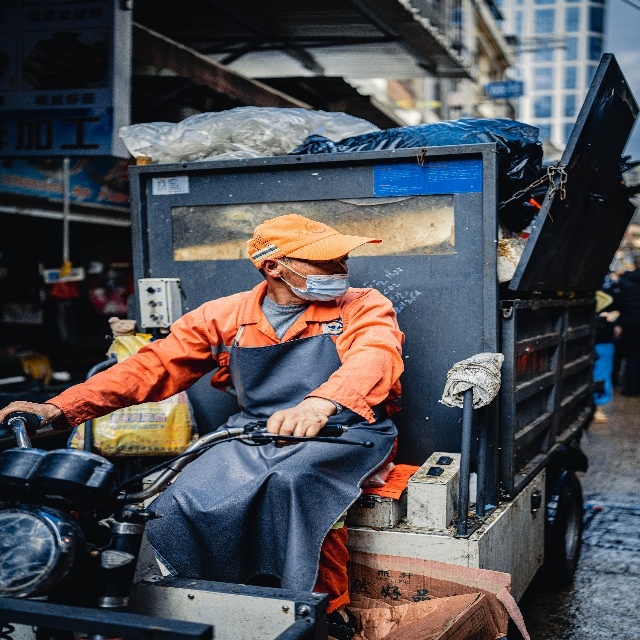Mascara: (294, 271, 349, 301)
Sin_guantes: (266, 403, 328, 447), (0, 398, 58, 435)
